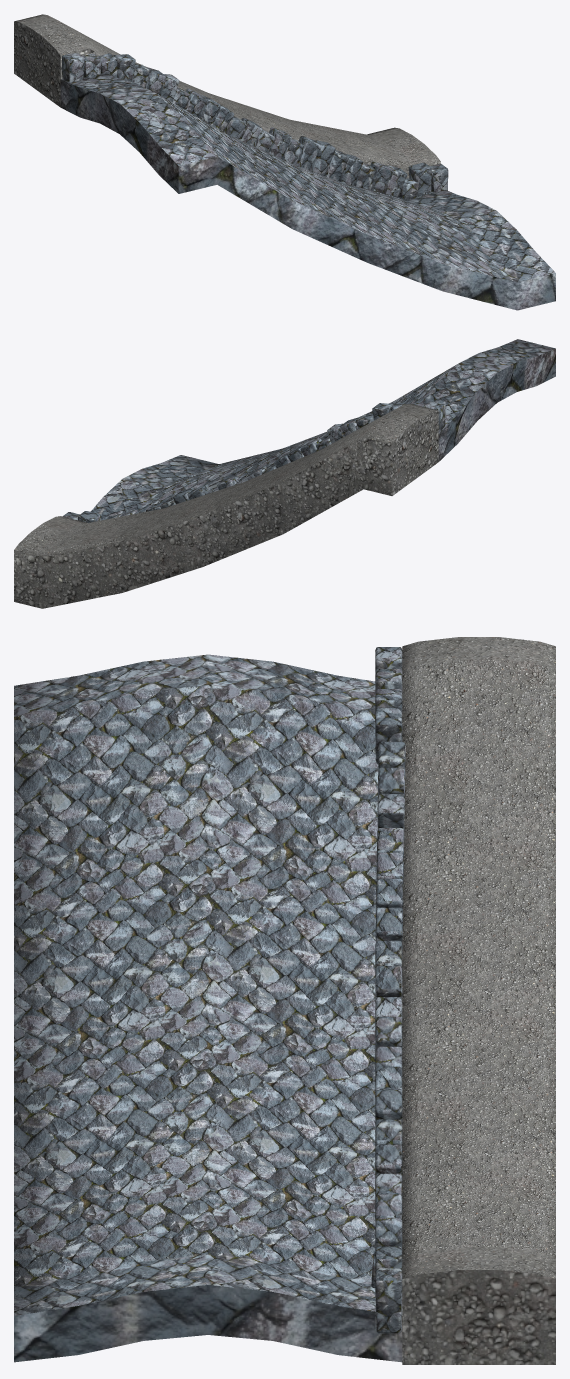
The model's file is StreetSlant_Down_8x4m.fbx.
3 views of the same model, one above another, from view 1: azimuth 30°, elevation 25°; view 2: azimuth 150°, elevation 25°; view 3: azimuth 270°, elevation 25° (orthographic). The views are drawn at different scales.
Parts seen in each view (by area): view 1: VictorianBiome.StreetSlantDown.8x4m; view 2: VictorianBiome.StreetSlantDown.8x4m; view 3: VictorianBiome.StreetSlantDown.8x4m.
Boxes of the visible parts, <box> form: VictorianBiome.StreetSlantDown.8x4m: <box>14,14,555,310</box>; VictorianBiome.StreetSlantDown.8x4m: <box>14,339,555,608</box>; VictorianBiome.StreetSlantDown.8x4m: <box>14,637,555,1364</box>.
Bounding box in the file's own units: 8 × 5.16 × 6.
